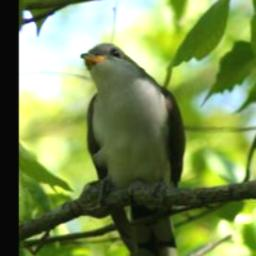Cuckoo: (80, 41, 188, 256)
